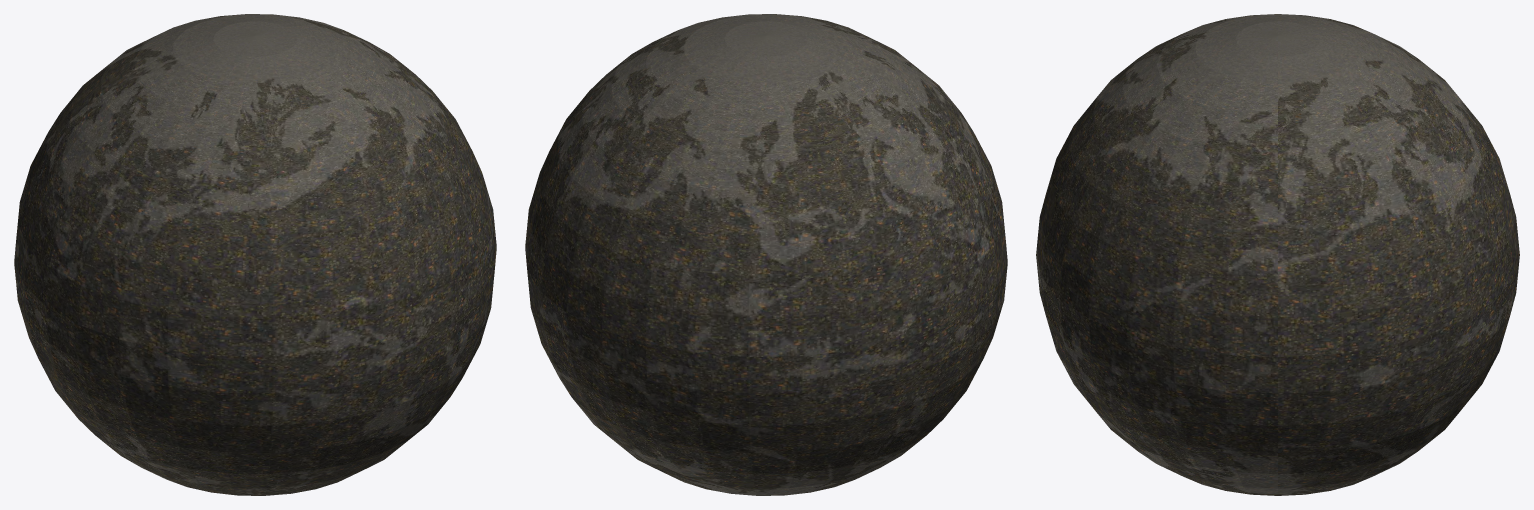
The model's file is new-detroit.glb.
The picture shows the model from 3 angles, left to right: view 1: azimuth 30°, elevation 25°; view 2: azimuth 150°, elevation 25°; view 3: azimuth 270°, elevation 25°; orthographic projection.
Parts seen in each view (by area): view 1: industrial_sphere.obj; view 2: industrial_sphere.obj; view 3: industrial_sphere.obj.
Boxes of the visible parts, x1=… form: industrial_sphere.obj: x1=14, y1=14, x2=496, y2=495; industrial_sphere.obj: x1=525, y1=14, x2=1007, y2=495; industrial_sphere.obj: x1=1036, y1=14, x2=1519, y2=495.
Bounding box in the file's own units: 2 × 2 × 2.
1 material, 1 textured.
